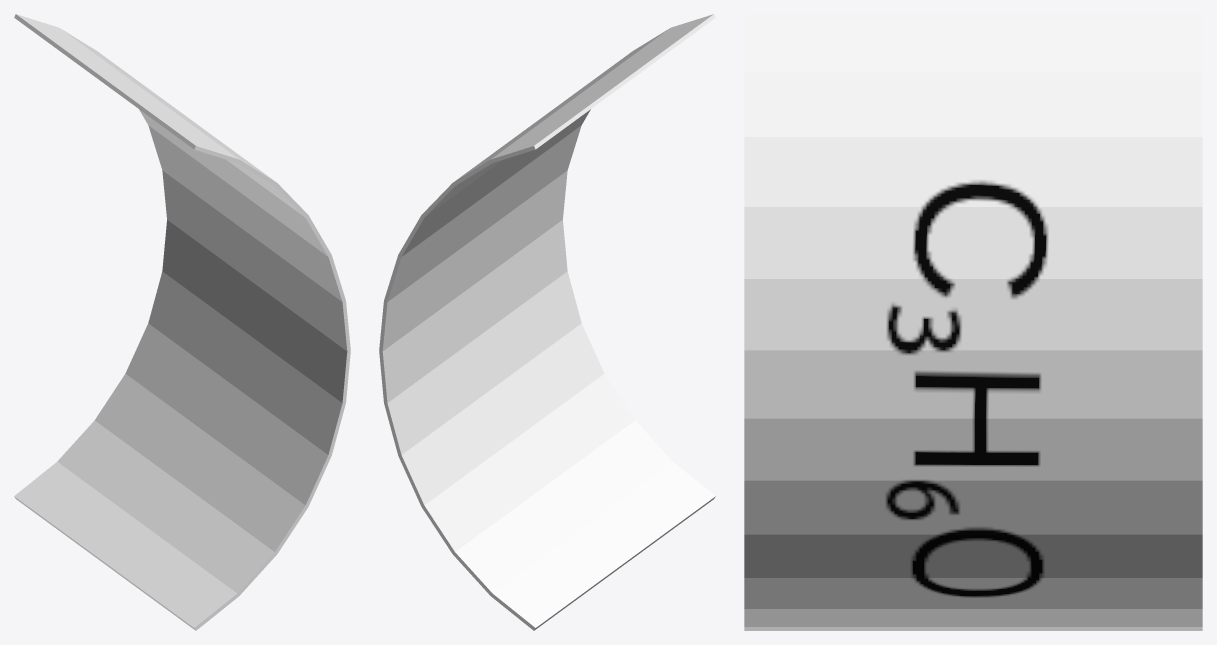
The model's file is Acetone etichetta.fbx.
3 renders of one model, left to right at view 1: azimuth 30°, elevation 25°; view 2: azimuth 150°, elevation 25°; view 3: azimuth 270°, elevation 25°, orthographic. The views are drawn at different scales.
Parts seen in each view (by area): view 1: Bottiglia base.001; view 2: Bottiglia base.001; view 3: Bottiglia base.001.
Part boxes in pixels (box(x1,y1,x2,y2)): Bottiglia base.001: box(14, 14, 350, 630); Bottiglia base.001: box(379, 14, 715, 630); Bottiglia base.001: box(744, 14, 1202, 630).
Bounding box in the file's own units: 4.37 × 12.94 × 8.72.
